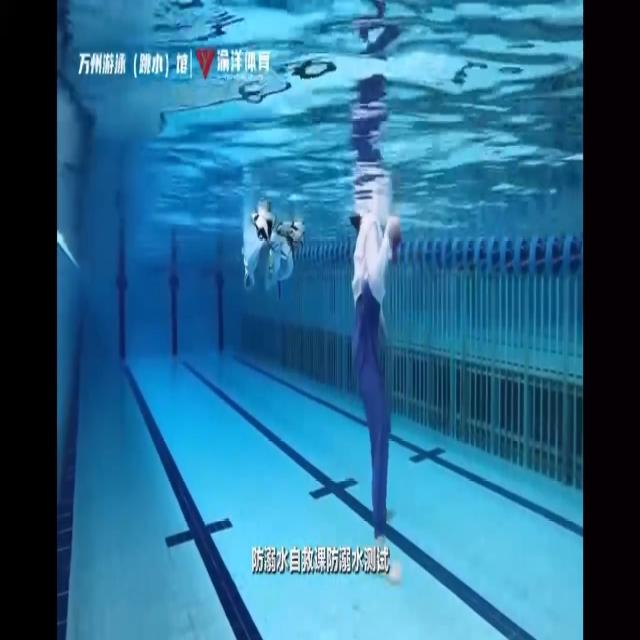Drowning: (351, 216, 402, 583)
